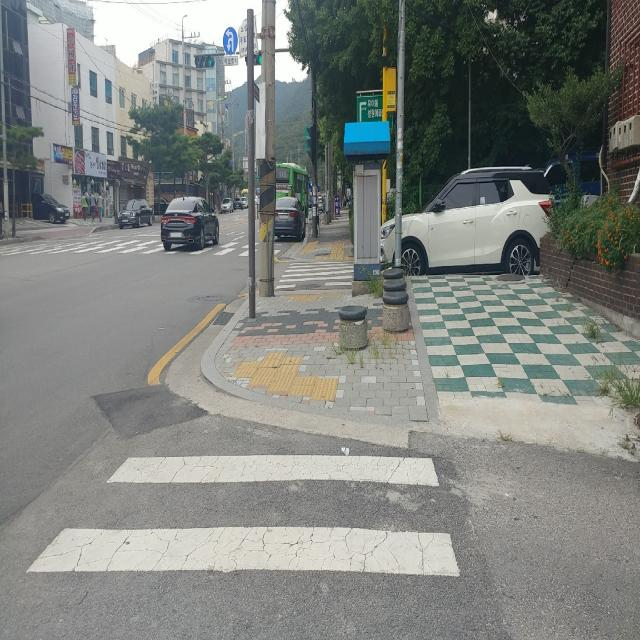횡단보도: (24, 451, 462, 581), (7, 242, 162, 252), (217, 242, 243, 255)
